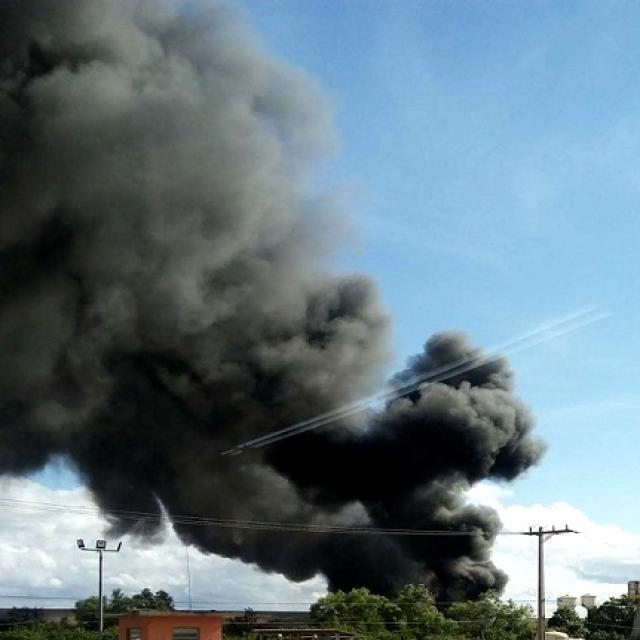Smoke: (0, 0, 352, 546), (228, 306, 535, 606)
